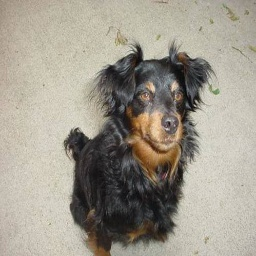dog: (55, 40, 218, 252)
